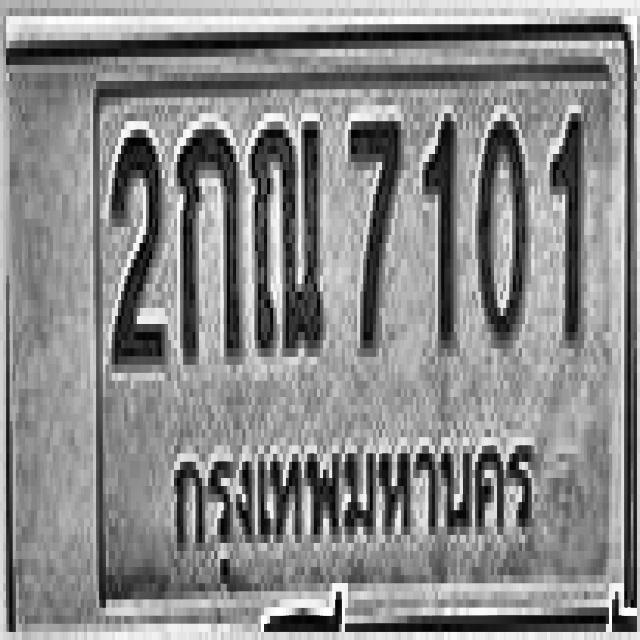license-plate: (10, 51, 631, 615)
